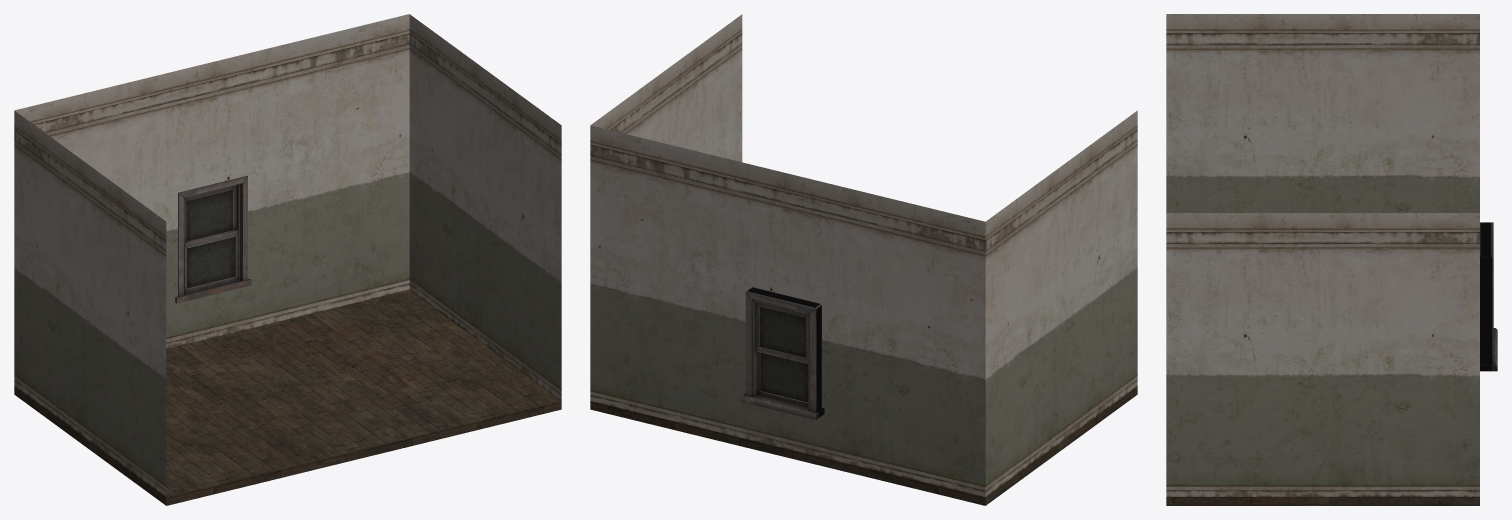
The model's file is hallway_end_window.fbx.
3 renders of one model, left to right at view 1: azimuth 30°, elevation 25°; view 2: azimuth 150°, elevation 25°; view 3: azimuth 270°, elevation 25°, orthographic. The views are drawn at different scales.
Parts seen in each view (by area): view 1: hallway_end_window; view 2: hallway_end_window; view 3: hallway_end_window.
Boxes of the visible parts, left/top/right/bottom form: hallway_end_window: left=14, top=14, right=561, bottom=505; hallway_end_window: left=590, top=14, right=1137, bottom=505; hallway_end_window: left=1166, top=14, right=1497, bottom=505.
Bounding box in the file's own units: 600 × 412 × 423.
